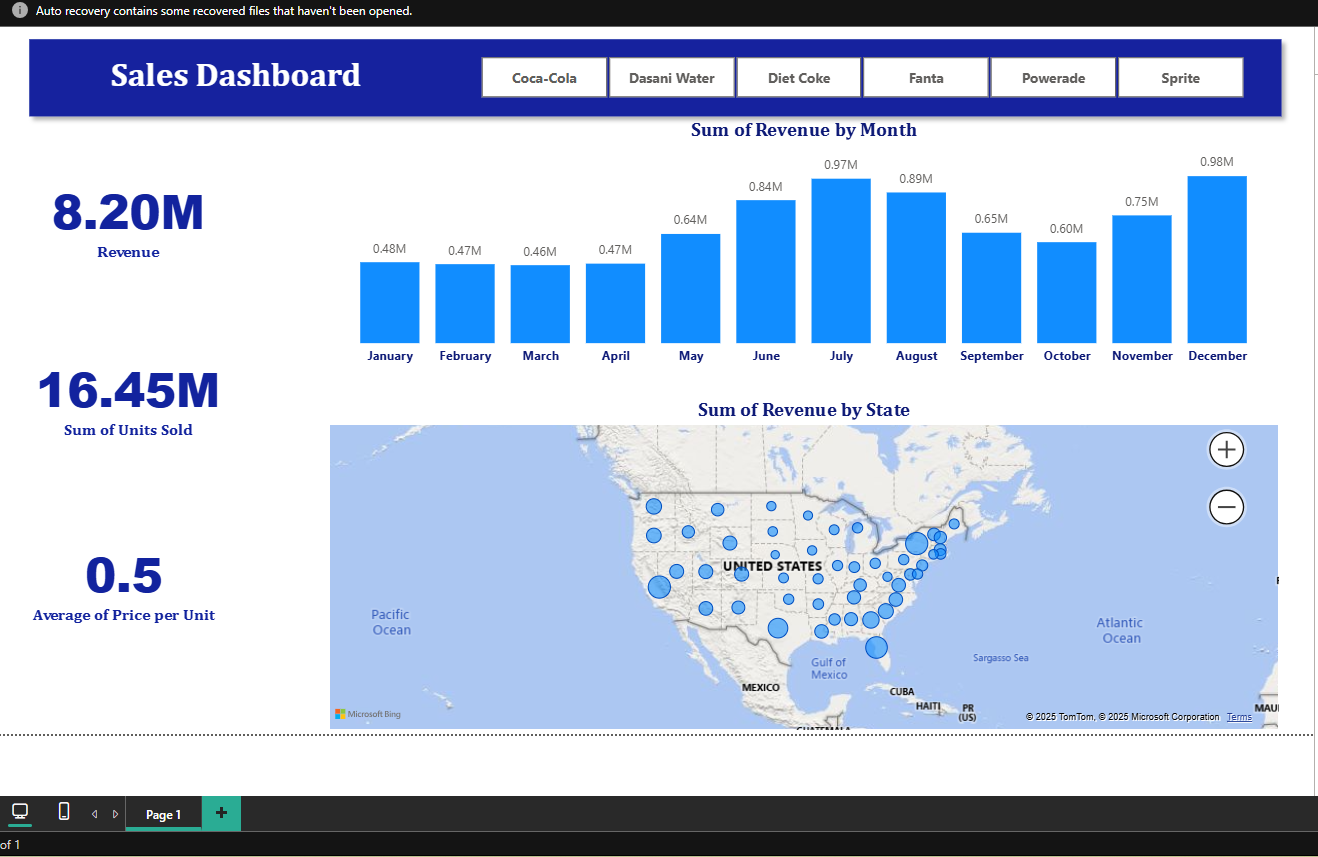

The page's visual inventory and layout, read from the dashboard file:
{"tool":"powerbi","page":{"name":"Page 1","canvas":[1280,720],"ordinal":0},"visuals":[{"type":"shape","box":[21.4,35,1236.2,93.4],"z":0},{"type":"card","fields":{"Values":["Sum(Data.Revenue)"]},"box":[29.2,147.8,194.5,143],"z":1000},{"type":"card","fields":{"Values":["Sum(Data.Units Sold)"]},"box":[29.2,322.9,194.5,140.1],"z":2000},{"type":"card","fields":{"Values":["Avg(Data.Price per Unit)"]},"box":[21.4,497,202.3,150.8],"z":3000},{"type":"columnChart","title":"Sum of Revenue by Month","fields":{"Y":["Sum(Data.Revenue)"],"Category":["Data.Month Name"]},"box":[318.1,119.6,931.8,250],"z":4000},{"type":"map","fields":{"Size":["Sum(Data.Revenue)"],"Category":["Data.State"]},"box":[318.1,392,931.8,327.8],"z":5000},{"type":"slicer","fields":{"Values":["Data.Beverage Brand"]},"box":[444.5,54.5,790.8,53.5],"z":6000},{"type":"textbox","box":[36,54.5,391,53.5],"z":7000}]}

Visuals, with their boxes on the page's 1280x720 design canvas (x1, y1, x2, y2). These are canvas units, not pixel positions in the 1318x857 screenshot, which may show the page scaled, cropped or inside an application window:
shape: 21 35 1258 128
card - Sum(Data.Revenue): 29 148 224 291
card - Sum(Data.Units Sold): 29 323 224 463
card - Avg(Data.Price per Unit): 21 497 224 648
"Sum of Revenue by Month" columnChart: 318 120 1250 370
map - Sum(Data.Revenue) x Data.State: 318 392 1250 720
slicer - Data.Beverage Brand: 444 54 1235 108
textbox: 36 54 427 108
